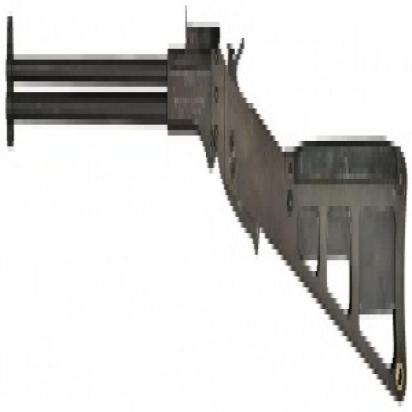Gun: (0, 24, 412, 412)
